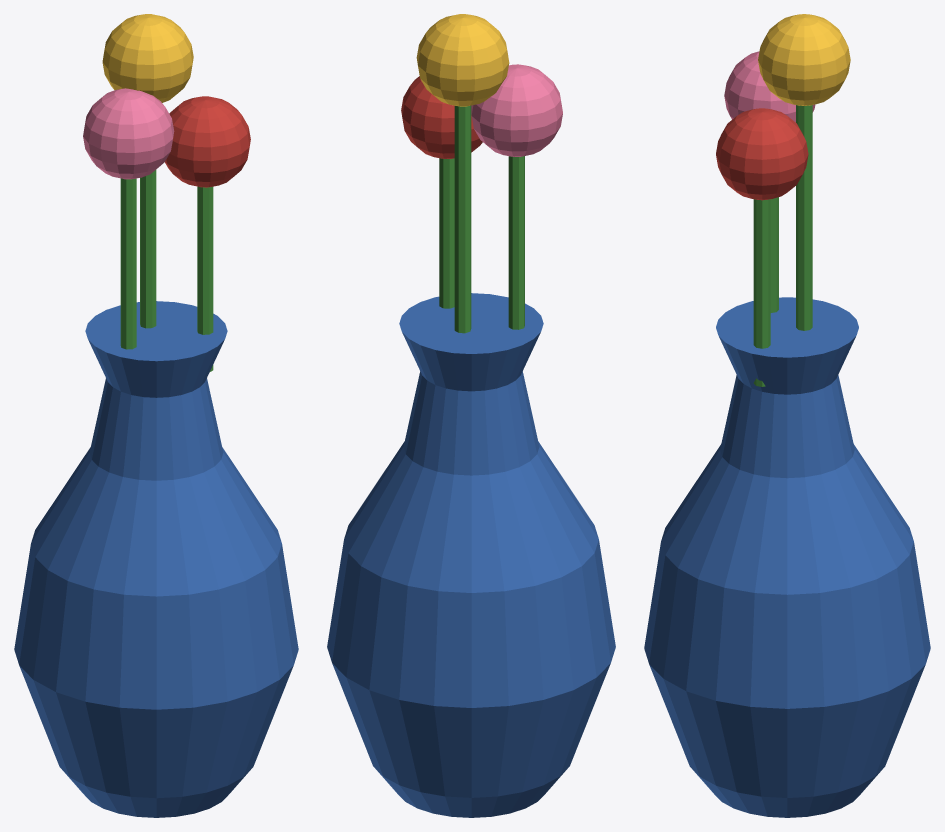
Rendered from vase.glb.
3 renders of one model, left to right at view 1: azimuth 30°, elevation 25°; view 2: azimuth 150°, elevation 25°; view 3: azimuth 270°, elevation 25°, orthographic.
Visible parts, largest first — view 1: Vase, Flower_2, Flower_1, Flower_0, Stem_2, Stem_0, Stem_1; view 2: Vase, Flower_0, Flower_2, Stem_0, Flower_1, Stem_2, Stem_1; view 3: Vase, Flower_1, Flower_0, Stem_0, Stem_1, Flower_2, Stem_2.
Boxes of the visible parts, left/top/right/bottom form: Vase: left=14, top=301, right=298, bottom=817; Flower_2: left=83, top=88, right=174, bottom=179; Flower_1: left=165, top=96, right=250, bottom=187; Flower_0: left=102, top=14, right=193, bottom=102; Stem_2: left=120, top=178, right=136, bottom=349; Stem_0: left=140, top=170, right=156, bottom=328; Stem_1: left=197, top=186, right=213, bottom=371; Vase: left=327, top=293, right=615, bottom=817; Flower_0: left=416, top=14, right=509, bottom=106; Flower_2: left=471, top=64, right=562, bottom=156; Stem_0: left=454, top=105, right=471, bottom=333; Flower_1: left=401, top=76, right=482, bottom=158; Stem_2: left=508, top=156, right=524, bottom=329; Stem_1: left=439, top=158, right=454, bottom=308; Vase: left=644, top=297, right=930, bottom=817; Flower_1: left=716, top=108, right=808, bottom=200; Flower_0: left=758, top=14, right=850, bottom=105; Stem_0: left=796, top=105, right=812, bottom=330; Stem_1: left=753, top=199, right=770, bottom=386; Flower_2: left=724, top=51, right=815, bottom=122; Stem_2: left=770, top=197, right=778, bottom=312.
Size of the model in its own units: 0.34 by 1 by 0.34.
